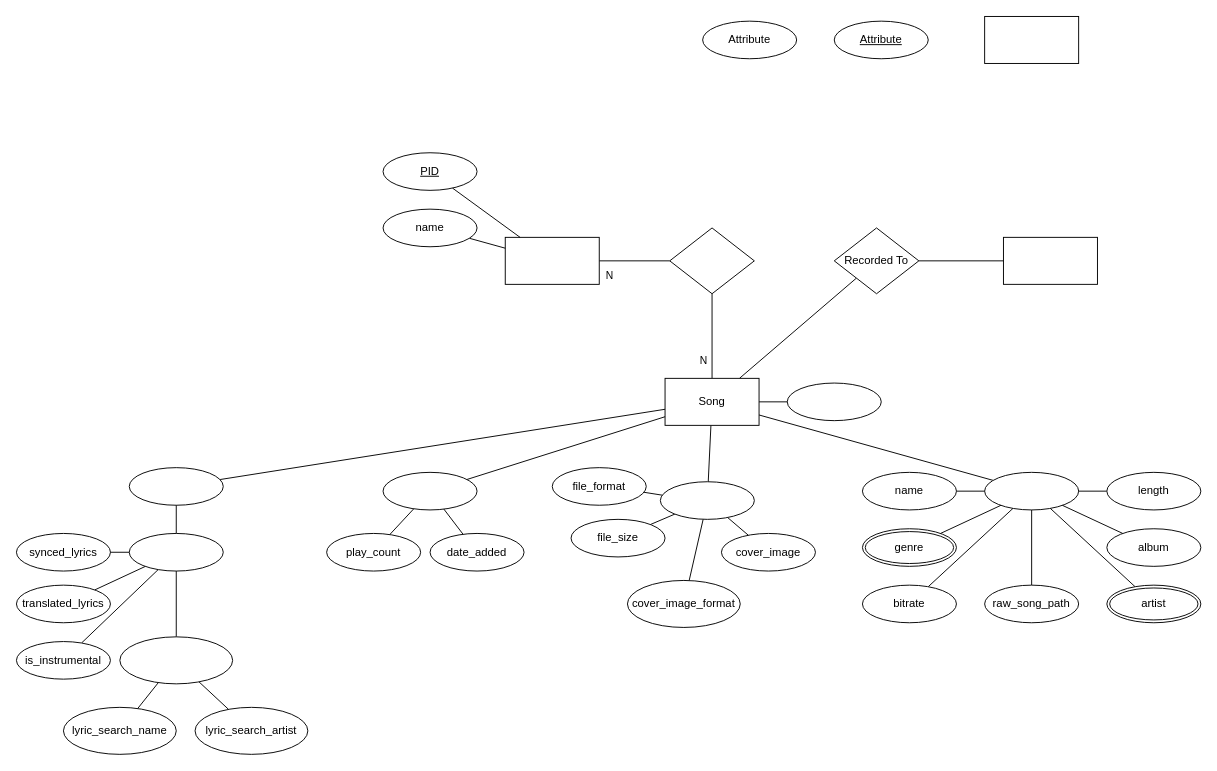
Some shapes in this 1217 by 771 pixel diagram are drawn without their labels. The shapes that lost their labels are listed below. From the top down, each one's box as (x1, y1, x2, y2) in pixels, then its label:
(504, 236, 599, 284): Playlist
(669, 227, 754, 294): Belongs To
(1003, 236, 1097, 284): User Audio Statistics
(786, 382, 881, 421): SID
(128, 467, 223, 505): external_data
(382, 471, 477, 510): user_data
(659, 481, 754, 519): metadata_extra
(984, 471, 1079, 510): metadata
(128, 533, 223, 571): lyrics
(119, 636, 233, 684): lyric_search_data
